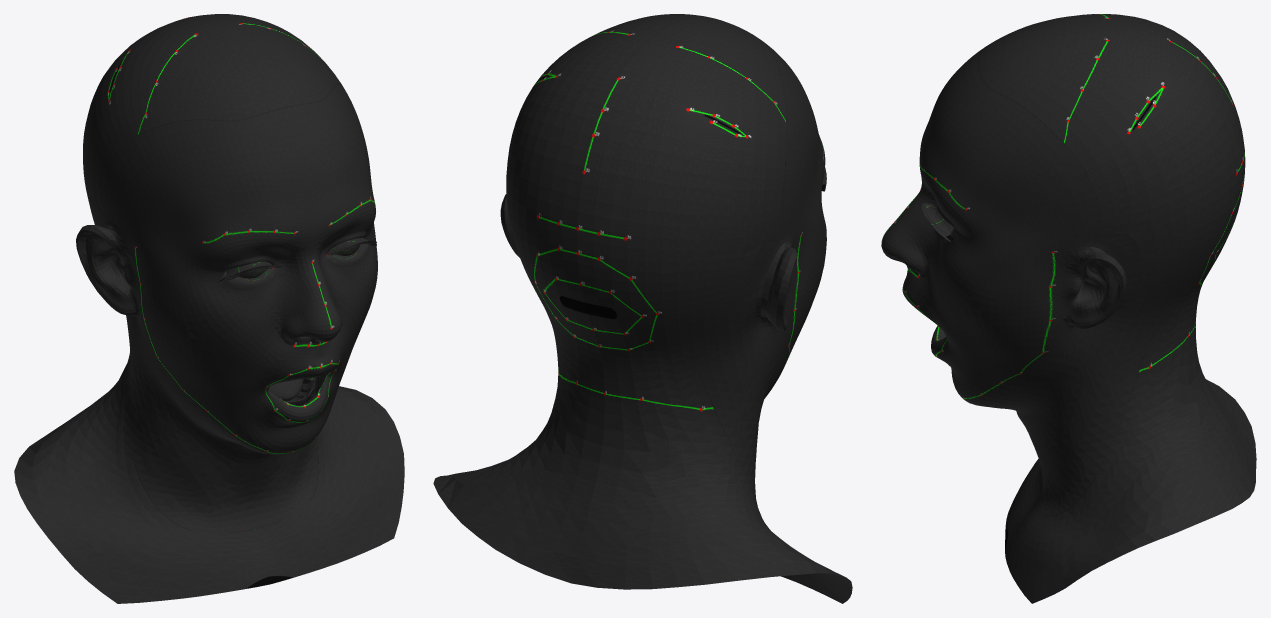
The model's file is ict_initial_68lmk_textured.obj.
3 views of the same model, side by side, from view 1: azimuth 30°, elevation 25°; view 2: azimuth 150°, elevation 25°; view 3: azimuth 270°, elevation 25° (orthographic). The views are drawn at different scales.
Bounding box in the file's own units: 1.02 × 1.38 × 0.9166.
1 material, 1 textured.
